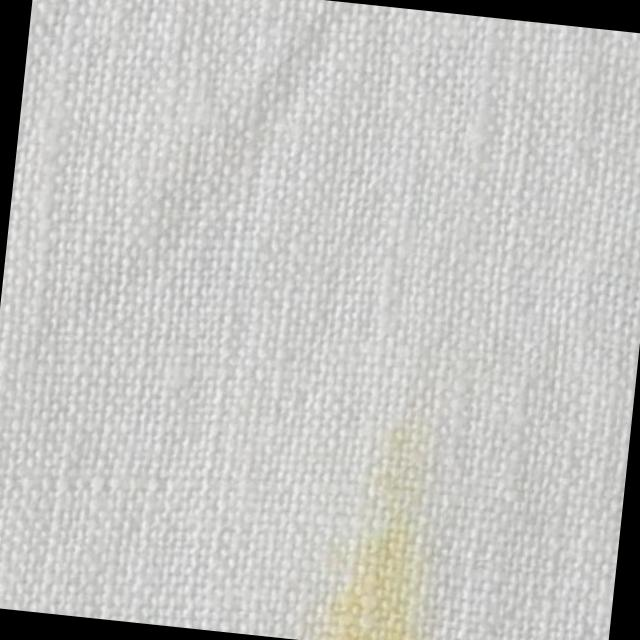Stain: (311, 408, 443, 640)
